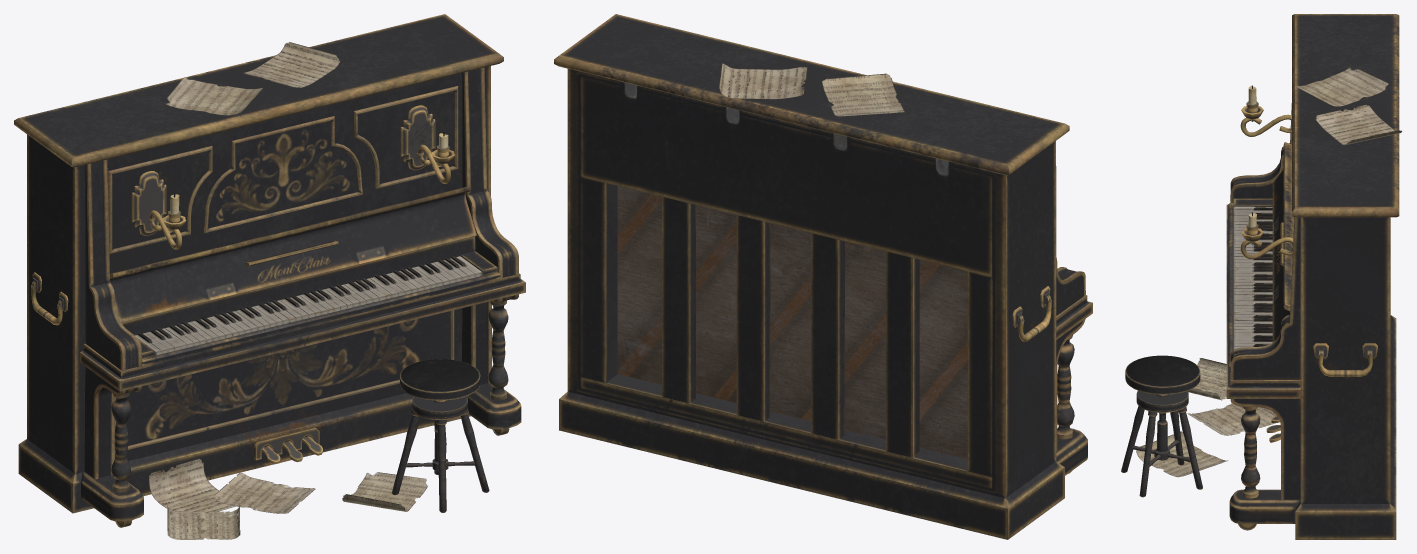
Rendered from the_storyteller_piano.glb.
3 views of the same model, side by side, from view 1: azimuth 30°, elevation 25°; view 2: azimuth 150°, elevation 25°; view 3: azimuth 270°, elevation 25° (orthographic). The views are drawn at different scales.
Parts seen in each view (by area): view 1: Cube.013, Cube.214, Cube.211, Cube.212, Cube.116, Cube.213, Circle.006, Cube.216, Cube.222, Cube.223, Cylinder.007, Cube.215 (+15 smaller); view 2: Cube.013, Cube.014, Plane.018, Plane.021, Cube.211, Cylinder.007, Cube.216, Cube.212; view 3: Cube.013, Cube.211, Cube.116, Circle.006, Cube.214, Plane.021, Plane.018, Cube.216, Cube.212, Plane.020, Cylinder.007, Plane.009 (+10 smaller).
Part boxes in pixels (x1=…): Cube.013: x1=14, y1=14, x2=503, y2=513; Cube.214: x1=110, y1=186, x2=476, y2=322; Cube.211: x1=84, y1=67, x2=519, y2=479; Cube.212: x1=80, y1=273, x2=525, y2=391; Cube.116: x1=135, y1=256, x2=482, y2=355; Cube.213: x1=121, y1=236, x2=475, y2=335; Circle.006: x1=400, y1=359, x2=480, y2=419; Cube.216: x1=81, y1=383, x2=521, y2=521; Cube.222: x1=131, y1=105, x2=435, y2=235; Cube.223: x1=108, y1=86, x2=458, y2=253; Cylinder.007: x1=111, y1=300, x2=508, y2=492; Cube.215: x1=141, y1=272, x2=500, y2=366; Cube.013: x1=554, y1=14, x2=1069, y2=539; Cube.014: x1=662, y1=197, x2=919, y2=457; Plane.018: x1=822, y1=73, x2=905, y2=116; Plane.021: x1=719, y1=63, x2=807, y2=99; Cube.211: x1=1056, y1=257, x2=1085, y2=450; Cylinder.007: x1=1057, y1=335, x2=1074, y2=439; Cube.216: x1=1056, y1=428, x2=1087, y2=475; Cube.212: x1=1056, y1=295, x2=1092, y2=339; Cube.013: x1=1292, y1=14, x2=1399, y2=539; Cube.211: x1=1230, y1=103, x2=1300, y2=499; Cube.116: x1=1233, y1=206, x2=1272, y2=349; Circle.006: x1=1125, y1=355, x2=1200, y2=412; Cube.214: x1=1272, y1=142, x2=1294, y2=341; Plane.021: x1=1315, y1=104, x2=1401, y2=145; Plane.018: x1=1294, y1=67, x2=1388, y2=106; Cube.216: x1=1229, y1=489, x2=1300, y2=523; Cube.212: x1=1226, y1=201, x2=1300, y2=398; Plane.020: x1=1187, y1=404, x2=1276, y2=435; Cylinder.007: x1=1241, y1=406, x2=1260, y2=498; Plane.009: x1=1136, y1=431, x2=1228, y2=477.
Size of the model in its own units: 9.62 by 7.75 by 5.83.
Materials: 3 (3 with a texture image).
